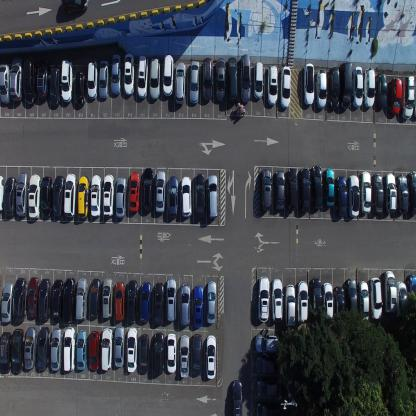car: (12, 277, 27, 323), (11, 328, 25, 375), (9, 56, 23, 102), (62, 326, 76, 372), (62, 278, 76, 324), (339, 61, 352, 110), (23, 56, 36, 105), (36, 56, 50, 101), (15, 172, 29, 217), (37, 278, 51, 323), (36, 326, 50, 371), (254, 378, 282, 400), (23, 326, 37, 370), (257, 276, 270, 323), (28, 173, 41, 219), (395, 173, 409, 215), (0, 282, 14, 324), (50, 327, 63, 372), (370, 276, 383, 320), (296, 280, 309, 324), (255, 354, 281, 376), (61, 59, 74, 103), (75, 276, 88, 320), (311, 163, 323, 210), (346, 277, 358, 324), (126, 326, 138, 373), (384, 171, 397, 214), (384, 269, 397, 312), (299, 167, 311, 213), (284, 283, 296, 329), (206, 173, 218, 219), (179, 282, 191, 328), (240, 53, 251, 103), (254, 332, 280, 353), (286, 166, 298, 211), (271, 278, 283, 323), (402, 74, 414, 119), (137, 54, 149, 99), (194, 172, 206, 217), (142, 167, 154, 212), (64, 172, 76, 217), (205, 279, 217, 324), (165, 277, 177, 322), (0, 330, 12, 375), (348, 174, 360, 218), (372, 172, 384, 216), (334, 285, 346, 329), (162, 53, 174, 97), (192, 284, 204, 328), (127, 279, 139, 323), (101, 276, 113, 320), (101, 327, 113, 371), (51, 278, 63, 322), (226, 57, 237, 104), (335, 174, 347, 217), (360, 171, 372, 214), (128, 171, 140, 214), (115, 176, 127, 219), (102, 174, 114, 217), (90, 174, 102, 217), (77, 176, 89, 219), (88, 329, 100, 372), (358, 279, 369, 325), (322, 282, 334, 324), (180, 176, 192, 218), (52, 175, 64, 217), (89, 277, 101, 319), (215, 57, 226, 102), (153, 331, 164, 376), (27, 277, 39, 318), (274, 168, 285, 212), (311, 276, 322, 320), (303, 62, 314, 106), (202, 56, 213, 100), (175, 61, 186, 105), (189, 60, 200, 104), (149, 56, 160, 100), (123, 52, 134, 96), (155, 170, 166, 214), (41, 175, 52, 219), (179, 334, 190, 378), (153, 282, 164, 326), (140, 280, 151, 324), (114, 324, 125, 368), (76, 328, 87, 372), (315, 69, 327, 109), (4, 176, 16, 216), (352, 65, 363, 108), (267, 63, 278, 106), (389, 76, 401, 115), (328, 67, 339, 109), (87, 58, 98, 100), (167, 176, 178, 218), (166, 332, 177, 374), (139, 333, 150, 375), (206, 334, 216, 380), (231, 378, 243, 416), (375, 71, 387, 109), (111, 54, 122, 95), (114, 281, 125, 322), (74, 70, 86, 107), (261, 168, 271, 212), (396, 280, 407, 320), (364, 67, 375, 107), (280, 64, 290, 108), (98, 59, 109, 99), (50, 67, 61, 107), (406, 272, 415, 320), (192, 334, 202, 377), (61, 0, 89, 15), (324, 166, 334, 208), (0, 62, 10, 104), (253, 62, 264, 100), (254, 400, 280, 416), (408, 170, 415, 216), (0, 174, 4, 211), (413, 75, 416, 118)
